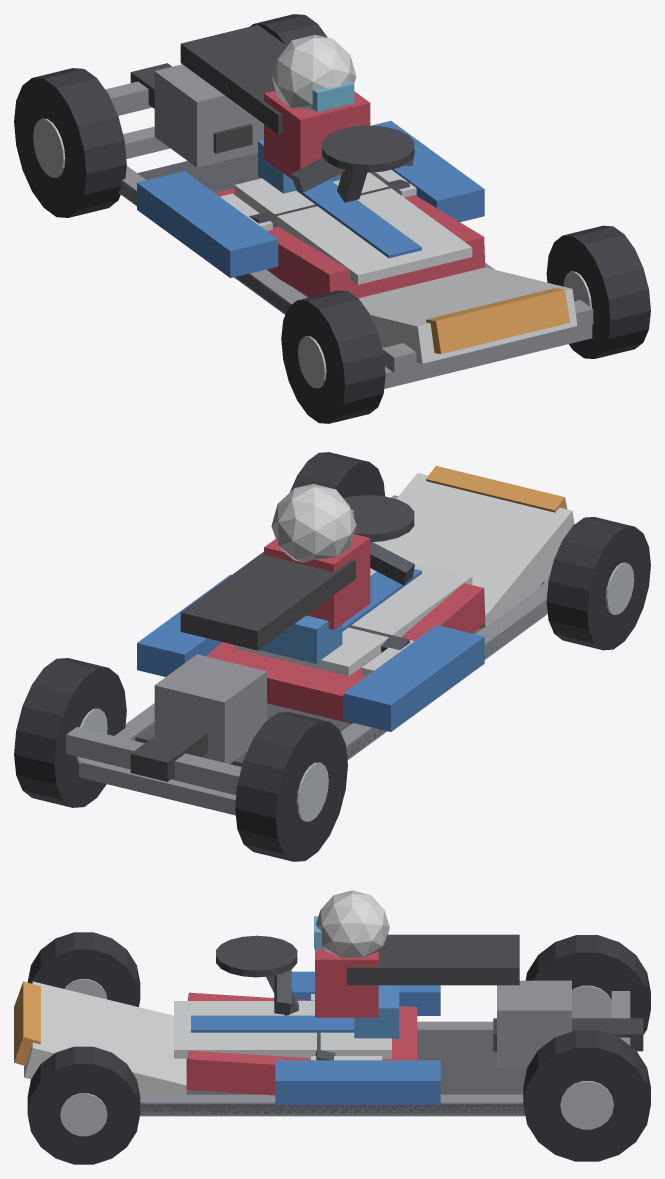
The model's file is racing_kart_with_driver.glb.
3 renders of one model, top to bottom at view 1: azimuth 30°, elevation 25°; view 2: azimuth 150°, elevation 25°; view 3: azimuth 270°, elevation 25°, orthographic. The views are drawn at different scales.
Visible parts, largest first — view 1: g0, g25, g4, g6, g14, g15, g21, g13, g17, g18, g31, g29 (+18 smaller); view 2: g14, g0, g2, g4, g17, g21, g15, g13, g25, g29, g20, g31 (+14 smaller); view 3: g2, g14, g6, g12, g17, g16, g25, g9, g0, g13, g21, g4 (+15 smaller).
Part boxes in pixels (x1,y1,x2,y2): g0: (14, 68, 126, 217); g25: (234, 172, 472, 284); g4: (281, 290, 385, 423); g6: (546, 225, 650, 358); g14: (358, 267, 577, 363); g15: (137, 171, 278, 278); g21: (154, 64, 263, 167); g13: (214, 188, 485, 298); g17: (180, 25, 286, 134); g18: (426, 288, 569, 353); g31: (264, 90, 370, 179); g29: (271, 34, 356, 110); g14: (373, 473, 574, 628); g0: (235, 712, 347, 861); g2: (14, 658, 126, 807); g4: (546, 517, 650, 650); g17: (180, 552, 355, 650); g21: (154, 654, 266, 763); g15: (343, 625, 484, 731); g13: (206, 583, 485, 723); g25: (234, 561, 472, 676); g29: (271, 484, 356, 562); g20: (66, 727, 241, 795); g31: (264, 534, 370, 629); g2: (523, 1030, 650, 1161); g14: (24, 981, 187, 1095); g6: (27, 1046, 140, 1164); g12: (140, 1031, 526, 1114); g17: (346, 934, 519, 985); g16: (275, 1060, 440, 1104); g25: (174, 1001, 391, 1058); g9: (140, 1094, 525, 1116); g0: (525, 935, 650, 1034); g13: (186, 992, 417, 1095); g21: (497, 980, 571, 1068); g4: (27, 932, 140, 1006).
Bounding box in the file's own units: 2.25 × 1.67 × 4.54.
